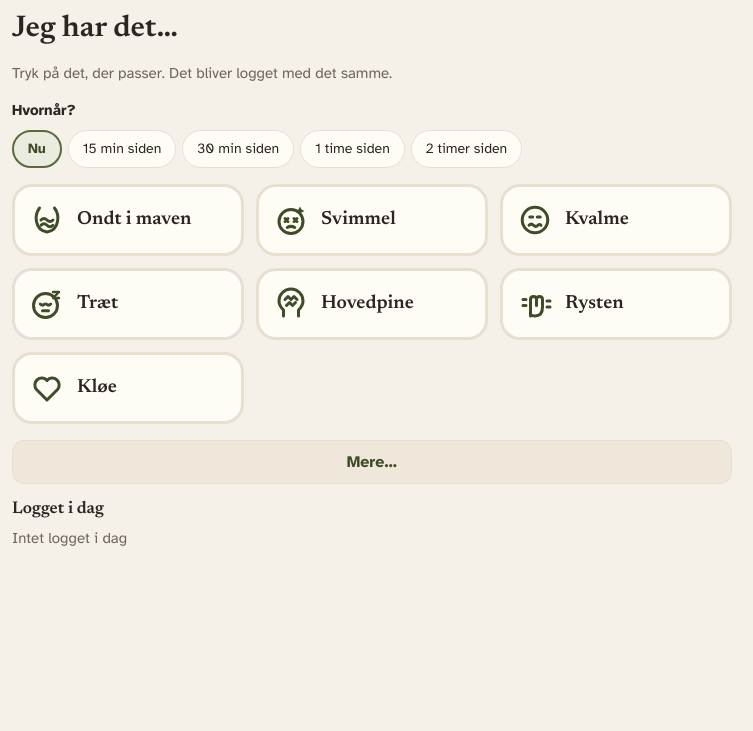
Test: Jeg har det… (the picker, plan §5) › the sheet logs on another day of the last week and says which
Step 1. Click the button "Mere…" → (372, 462), box x1=12 y1=440 x2=732 y2=484
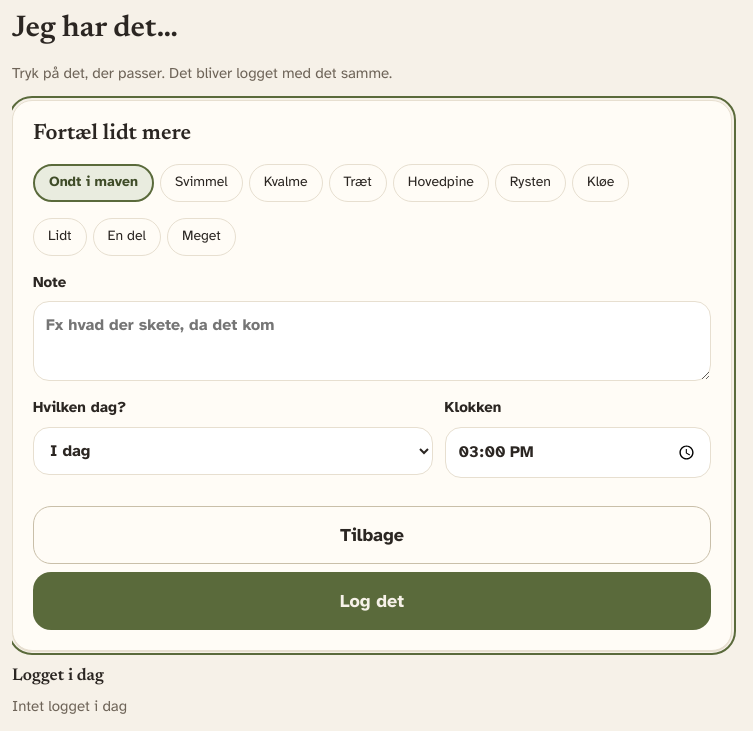
Step 2. Select "I går" in the dropdown labelled "Hvilken dag?" → (233, 451), box x1=33 y1=427 x2=433 y2=475
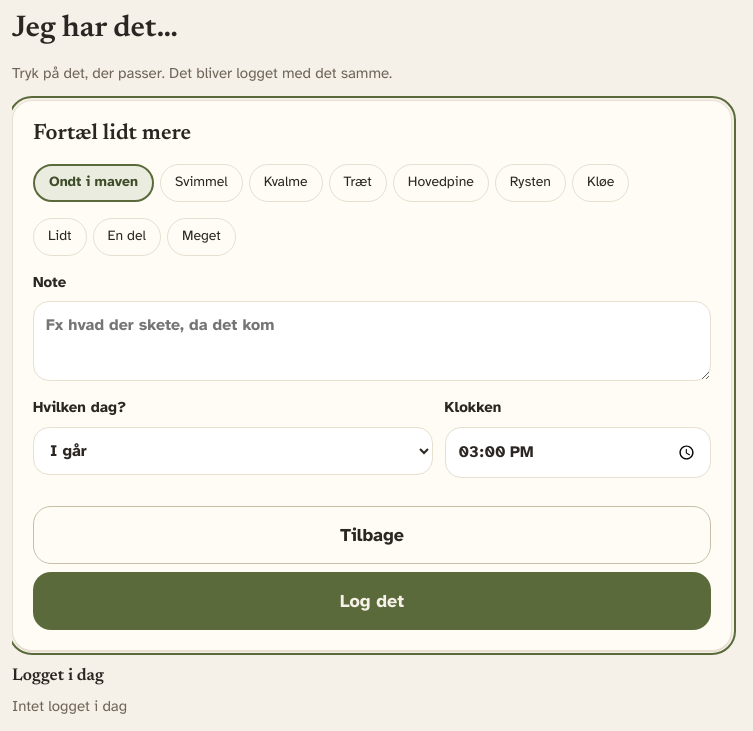
Step 3. Replace the text in the time field labelled "Klokken" with "22:15" → (578, 453), box x1=445 y1=427 x2=711 y2=478
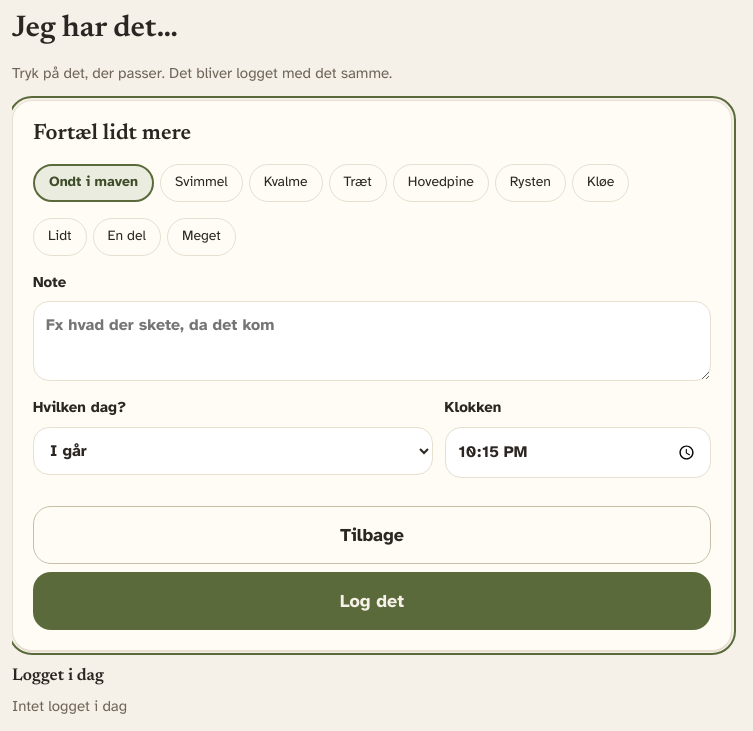
Step 4. Click the button "Log det" → (372, 601), box x1=33 y1=572 x2=711 y2=630
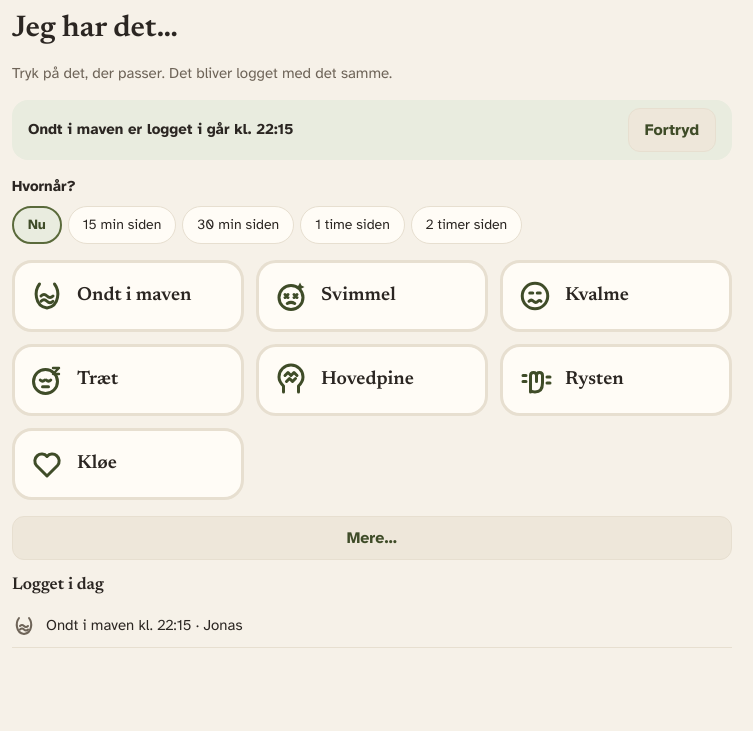
Expected: the message with test id "feel-status" shows "Ondt i maven er logget i går kl. 22:15", x1=28 y1=120 x2=294 y2=138
